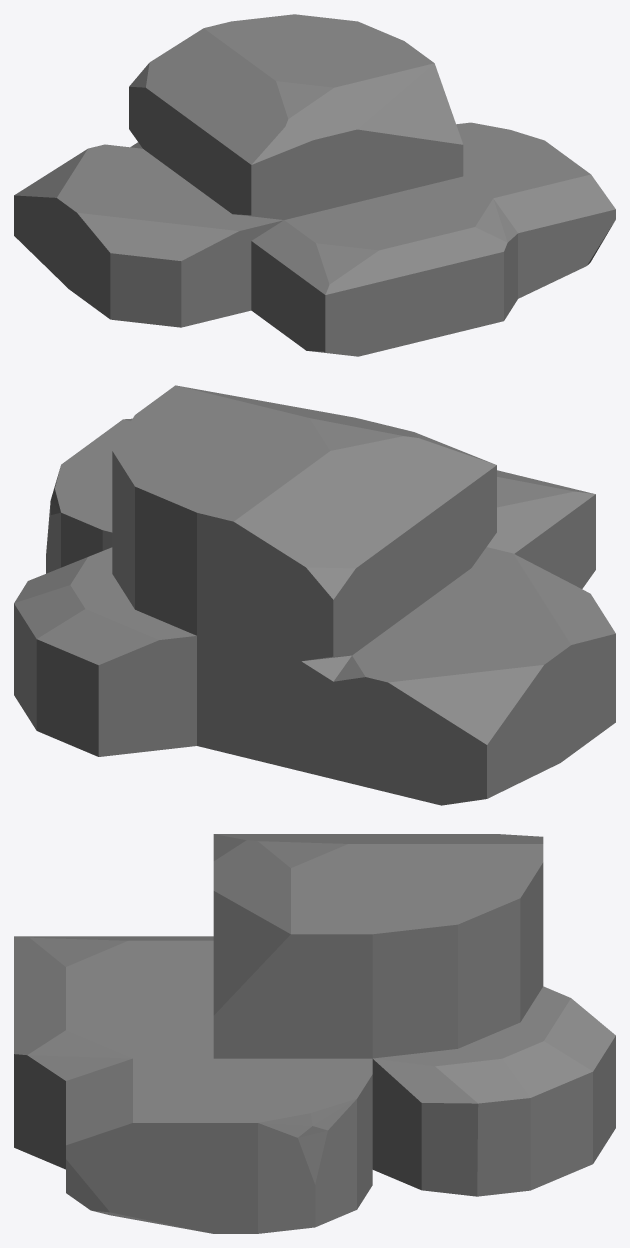
Rendered from stones02.fbx.
3 views of the same model, one above another, from view 1: azimuth 30°, elevation 25°; view 2: azimuth 150°, elevation 25°; view 3: azimuth 270°, elevation 25° (orthographic). The views are drawn at different scales.
Parts seen in each view (by area): view 1: stones02_LOD0; view 2: stones02_LOD0; view 3: stones02_LOD0.
Part boxes in pixels (<box>): stones02_LOD0: <box>14,14,615,356</box>; stones02_LOD0: <box>14,385,615,805</box>; stones02_LOD0: <box>14,834,615,1233</box>.
Size of what is drawn, in the model's own units: 200 by 78.71 by 182.
